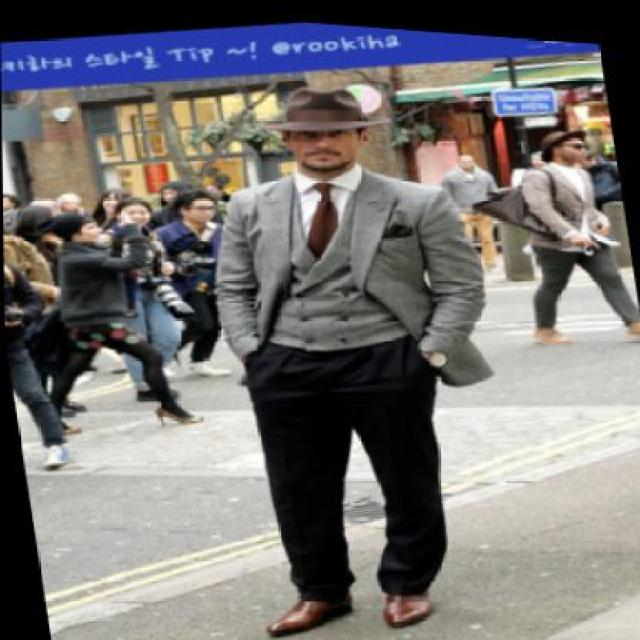hat: (250, 67, 395, 142)
